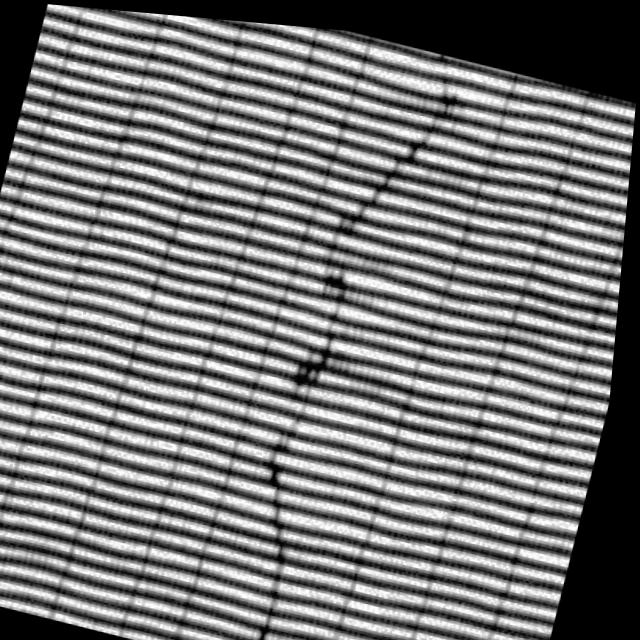Stitch: (225, 25, 484, 640)
